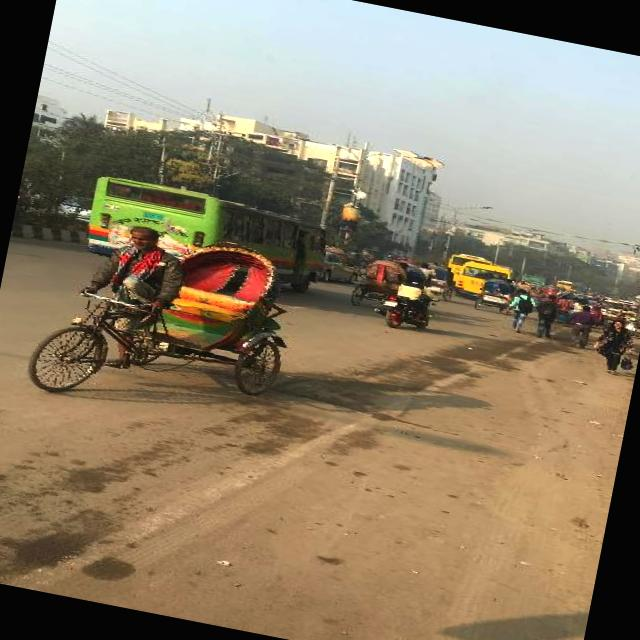bus: (80, 172, 335, 296), (454, 258, 514, 304), (449, 251, 494, 281), (524, 272, 552, 286), (558, 279, 576, 289)
car: (322, 251, 365, 287), (348, 252, 372, 268)
motorcycle: (22, 208, 306, 437), (374, 270, 441, 334), (352, 254, 412, 314), (476, 275, 520, 316), (426, 264, 455, 300), (406, 262, 431, 279), (572, 292, 593, 304), (328, 246, 352, 256), (532, 282, 546, 297), (517, 280, 532, 292), (558, 290, 576, 300), (544, 286, 559, 297), (362, 249, 378, 258), (401, 256, 414, 264), (597, 296, 610, 302)
truck: (59, 190, 96, 224)
